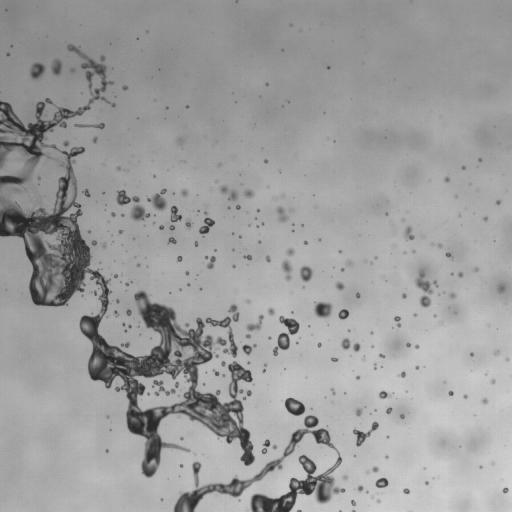droplet: (415, 271, 437, 307), (147, 188, 166, 211), (152, 380, 179, 396), (284, 397, 305, 415), (314, 302, 332, 317), (30, 62, 45, 78), (261, 439, 276, 454), (170, 206, 182, 223), (299, 266, 312, 281), (51, 59, 62, 75), (277, 207, 288, 221), (242, 344, 256, 355), (404, 226, 414, 240), (205, 256, 215, 269), (375, 477, 388, 487), (379, 390, 392, 398), (338, 309, 348, 319), (244, 189, 254, 198), (185, 218, 192, 229), (286, 248, 295, 256), (335, 282, 344, 290), (176, 137, 184, 145), (267, 307, 275, 315), (83, 189, 90, 197), (180, 189, 188, 196), (355, 408, 362, 416), (168, 237, 176, 243), (243, 254, 251, 260), (398, 371, 405, 377), (371, 466, 378, 472), (445, 252, 451, 258), (346, 260, 352, 266), (498, 286, 504, 292), (213, 369, 219, 375), (386, 407, 392, 413), (357, 485, 363, 491), (449, 293, 455, 298), (126, 309, 131, 315), (503, 487, 508, 493), (403, 488, 409, 493), (122, 85, 127, 90), (444, 177, 449, 182), (169, 225, 174, 230), (91, 240, 96, 245), (437, 243, 442, 248), (177, 256, 182, 261), (458, 272, 463, 277), (113, 311, 118, 316), (482, 398, 487, 403), (93, 136, 97, 142), (331, 357, 337, 361), (331, 388, 335, 394), (63, 141, 68, 145), (116, 166, 121, 170), (37, 175, 41, 180), (159, 225, 164, 229), (102, 242, 106, 247), (266, 256, 270, 261), (402, 293, 406, 298), (494, 350, 499, 354), (379, 353, 384, 357), (221, 361, 225, 366), (448, 391, 453, 395), (342, 475, 347, 479), (351, 500, 355, 505), (264, 159, 268, 163), (496, 200, 500, 204), (236, 205, 240, 209), (111, 212, 115, 216), (483, 216, 487, 220), (474, 267, 478, 271), (185, 271, 189, 275), (356, 293, 360, 297), (246, 299, 250, 303), (317, 343, 321, 347), (406, 343, 410, 347), (415, 344, 419, 348), (491, 379, 495, 383), (463, 394, 467, 398), (400, 414, 404, 418), (373, 364, 376, 369), (118, 230, 122, 233), (506, 357, 509, 361), (415, 366, 419, 369), (478, 158, 481, 161), (462, 166, 465, 169), (304, 241, 307, 244), (194, 242, 197, 245), (137, 263, 140, 266), (126, 283, 129, 286), (93, 291, 96, 294), (116, 299, 119, 302), (262, 369, 265, 372), (356, 376, 359, 379), (377, 499, 380, 502), (297, 509, 301, 511), (327, 66, 329, 69), (71, 68, 73, 71), (265, 83, 268, 85), (186, 105, 188, 108), (290, 208, 292, 211), (121, 214, 124, 216), (339, 250, 341, 253), (341, 268, 343, 271), (114, 275, 117, 277), (414, 313, 416, 316), (122, 323, 125, 325), (128, 325, 131, 327), (470, 353, 473, 355), (106, 416, 109, 418), (385, 455, 388, 457), (180, 464, 182, 467), (366, 471, 369, 473), (425, 482, 428, 484), (7, 53, 9, 55), (257, 209, 259, 211), (413, 250, 415, 252), (233, 265, 235, 267), (181, 437, 183, 439), (106, 450, 108, 452)
ligament: (0, 44, 250, 476), (173, 415, 338, 511), (247, 455, 345, 511), (116, 190, 150, 221), (273, 316, 299, 356), (353, 421, 378, 446), (245, 314, 263, 338), (199, 211, 214, 235), (219, 185, 237, 200), (341, 338, 360, 351), (281, 260, 292, 280), (75, 123, 104, 129), (394, 316, 401, 327), (243, 390, 251, 399)
